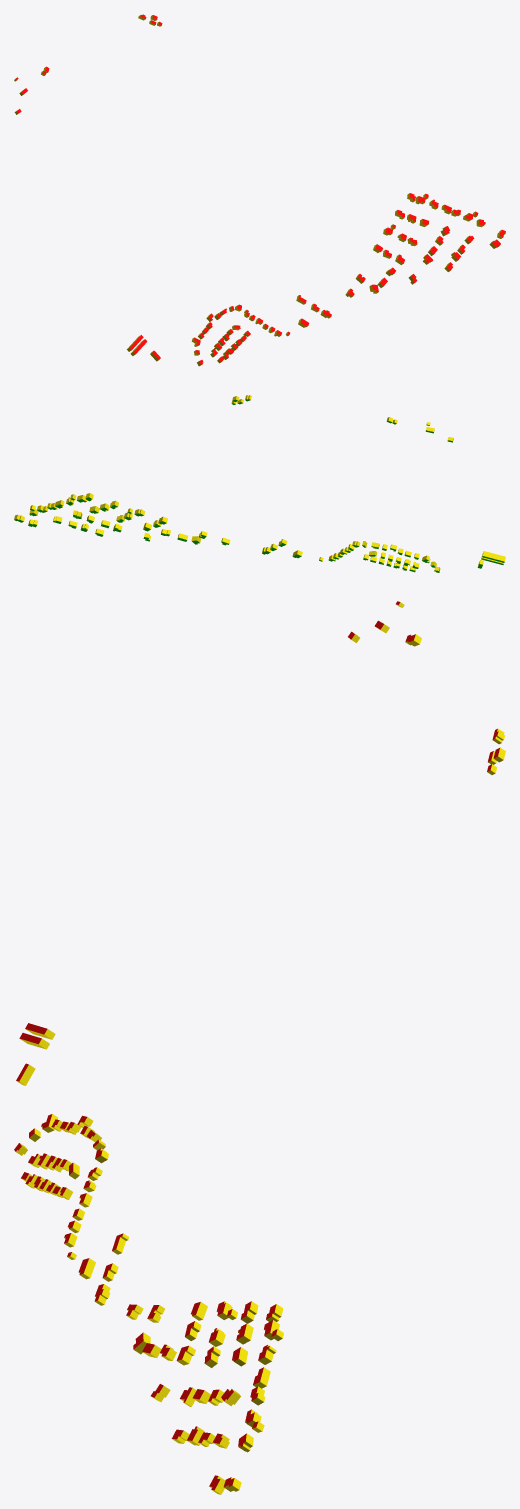
3 views of the same model, one above another, from view 1: azimuth 30°, elevation 25°; view 2: azimuth 150°, elevation 25°; view 3: azimuth 270°, elevation 25° (orthographic). The views are drawn at different scales.
Visible parts, largest first — view 1: mesh; view 2: mesh; view 3: mesh.
Boxes of the visible parts, x1=… form: mesh: x1=14, y1=14, x2=505, y2=366; mesh: x1=14, y1=395, x2=505, y2=572; mesh: x1=14, y1=601, x2=505, y2=1494.
Size of the model in its own units: 1533 by 807 by 722.
